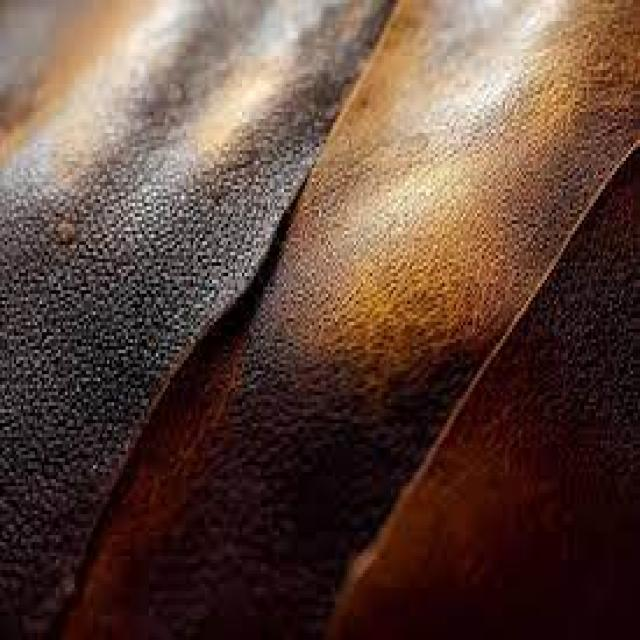Rotten surface: (328, 18, 599, 298), (32, 18, 264, 186)
